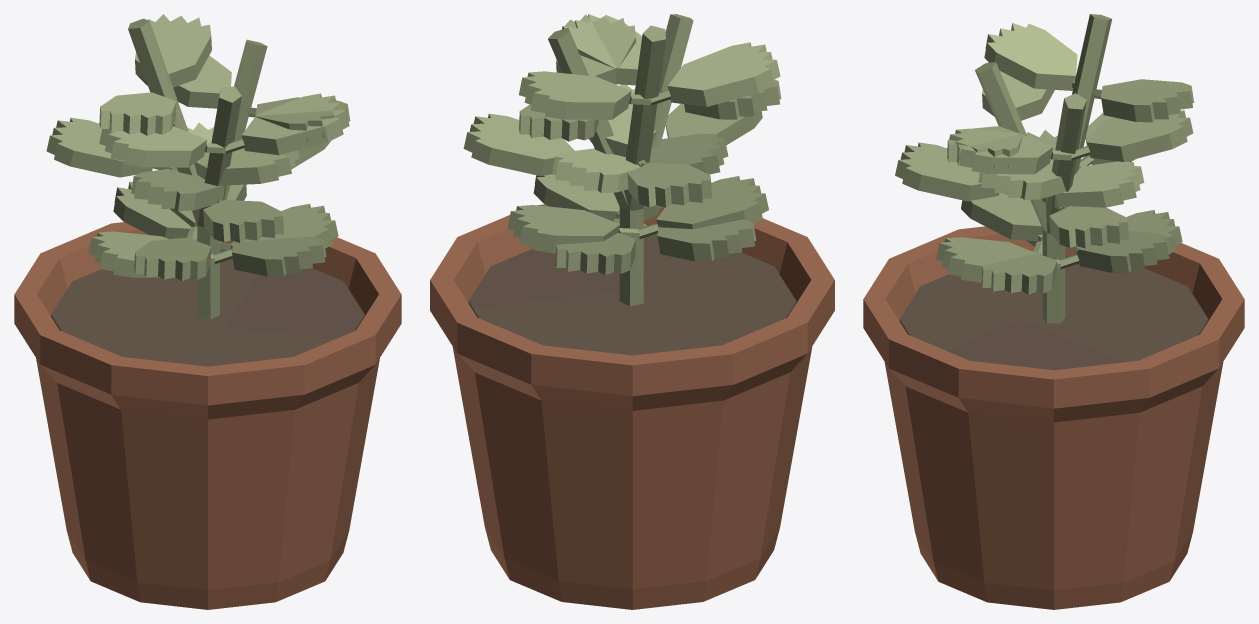
File: new-tomentosa-cot.glb
The picture shows the model from 3 angles, left to right: view 1: azimuth 30°, elevation 25°; view 2: azimuth 150°, elevation 25°; view 3: azimuth 270°, elevation 25°; orthographic projection. The views are drawn at different scales.
Visible parts, largest first — view 1: new-tomentosa-cot/review-terra-vessel, new-tomentosa-cot/review-rooted-soil, new-tomentosa-cot/leaf-039, new-tomentosa-cot/leaf-037, new-tomentosa-cot/leaf-024, new-tomentosa-cot/stem-014, new-tomentosa-cot/leaf-003, new-tomentosa-cot/leaf-020, new-tomentosa-cot/leaf-009, new-tomentosa-cot/leaf-033, new-tomentosa-cot/leaf-018, new-tomentosa-cot/leaf-026 (+9 smaller); view 2: new-tomentosa-cot/review-terra-vessel, new-tomentosa-cot/review-rooted-soil, new-tomentosa-cot/leaf-026, new-tomentosa-cot/leaf-024, new-tomentosa-cot/leaf-007, new-tomentosa-cot/stem-014, new-tomentosa-cot/leaf-016, new-tomentosa-cot/leaf-018, new-tomentosa-cot/leaf-020, new-tomentosa-cot/leaf-029, new-tomentosa-cot/leaf-035, new-tomentosa-cot/stem-001 (+10 smaller); view 3: new-tomentosa-cot/review-terra-vessel, new-tomentosa-cot/review-rooted-soil, new-tomentosa-cot/leaf-026, new-tomentosa-cot/leaf-013, new-tomentosa-cot/leaf-033, new-tomentosa-cot/leaf-024, new-tomentosa-cot/leaf-035, new-tomentosa-cot/leaf-011, new-tomentosa-cot/stem-014, new-tomentosa-cot/leaf-007, new-tomentosa-cot/leaf-016, new-tomentosa-cot/stem-027 (+8 smaller).
Part boxes in pixels (x1,y1,x2,y2): new-tomentosa-cot/review-terra-vessel: [14, 222, 401, 609]; new-tomentosa-cot/review-rooted-soil: [51, 252, 364, 366]; new-tomentosa-cot/leaf-039: [241, 93, 349, 155]; new-tomentosa-cot/leaf-037: [99, 126, 206, 167]; new-tomentosa-cot/leaf-024: [135, 14, 211, 87]; new-tomentosa-cot/stem-014: [128, 18, 210, 319]; new-tomentosa-cot/leaf-003: [232, 236, 326, 276]; new-tomentosa-cot/leaf-020: [46, 117, 152, 177]; new-tomentosa-cot/leaf-009: [131, 169, 224, 211]; new-tomentosa-cot/leaf-033: [203, 200, 284, 242]; new-tomentosa-cot/leaf-018: [134, 237, 211, 280]; new-tomentosa-cot/leaf-026: [99, 92, 176, 135]; new-tomentosa-cot/review-terra-vessel: [430, 204, 834, 609]; new-tomentosa-cot/review-rooted-soil: [468, 236, 796, 355]; new-tomentosa-cot/leaf-026: [667, 42, 780, 106]; new-tomentosa-cot/leaf-024: [519, 71, 631, 119]; new-tomentosa-cot/leaf-007: [463, 113, 574, 176]; new-tomentosa-cot/stem-014: [619, 25, 665, 306]; new-tomentosa-cot/leaf-016: [507, 205, 620, 253]; new-tomentosa-cot/leaf-018: [656, 176, 768, 229]; new-tomentosa-cot/leaf-020: [627, 163, 712, 207]; new-tomentosa-cot/leaf-029: [657, 219, 756, 261]; new-tomentosa-cot/leaf-035: [552, 148, 639, 193]; new-tomentosa-cot/stem-001: [548, 28, 643, 306]; new-tomentosa-cot/review-terra-vessel: [863, 226, 1244, 609]; new-tomentosa-cot/review-rooted-soil: [899, 255, 1208, 370]; new-tomentosa-cot/leaf-026: [984, 23, 1077, 90]; new-tomentosa-cot/leaf-013: [1087, 110, 1193, 161]; new-tomentosa-cot/leaf-033: [895, 142, 999, 201]; new-tomentosa-cot/leaf-024: [1101, 79, 1194, 122]; new-tomentosa-cot/leaf-035: [1046, 161, 1144, 209]; new-tomentosa-cot/leaf-011: [947, 128, 1052, 174]; new-tomentosa-cot/stem-014: [1055, 14, 1111, 322]; new-tomentosa-cot/leaf-007: [1049, 206, 1128, 248]; new-tomentosa-cot/leaf-016: [1077, 231, 1170, 273]; new-tomentosa-cot/stem-027: [975, 62, 1060, 323].
Size of the model in its own units: 0.19 by 0.2849 by 0.19.
Materials: 3 (3 with a texture image).
